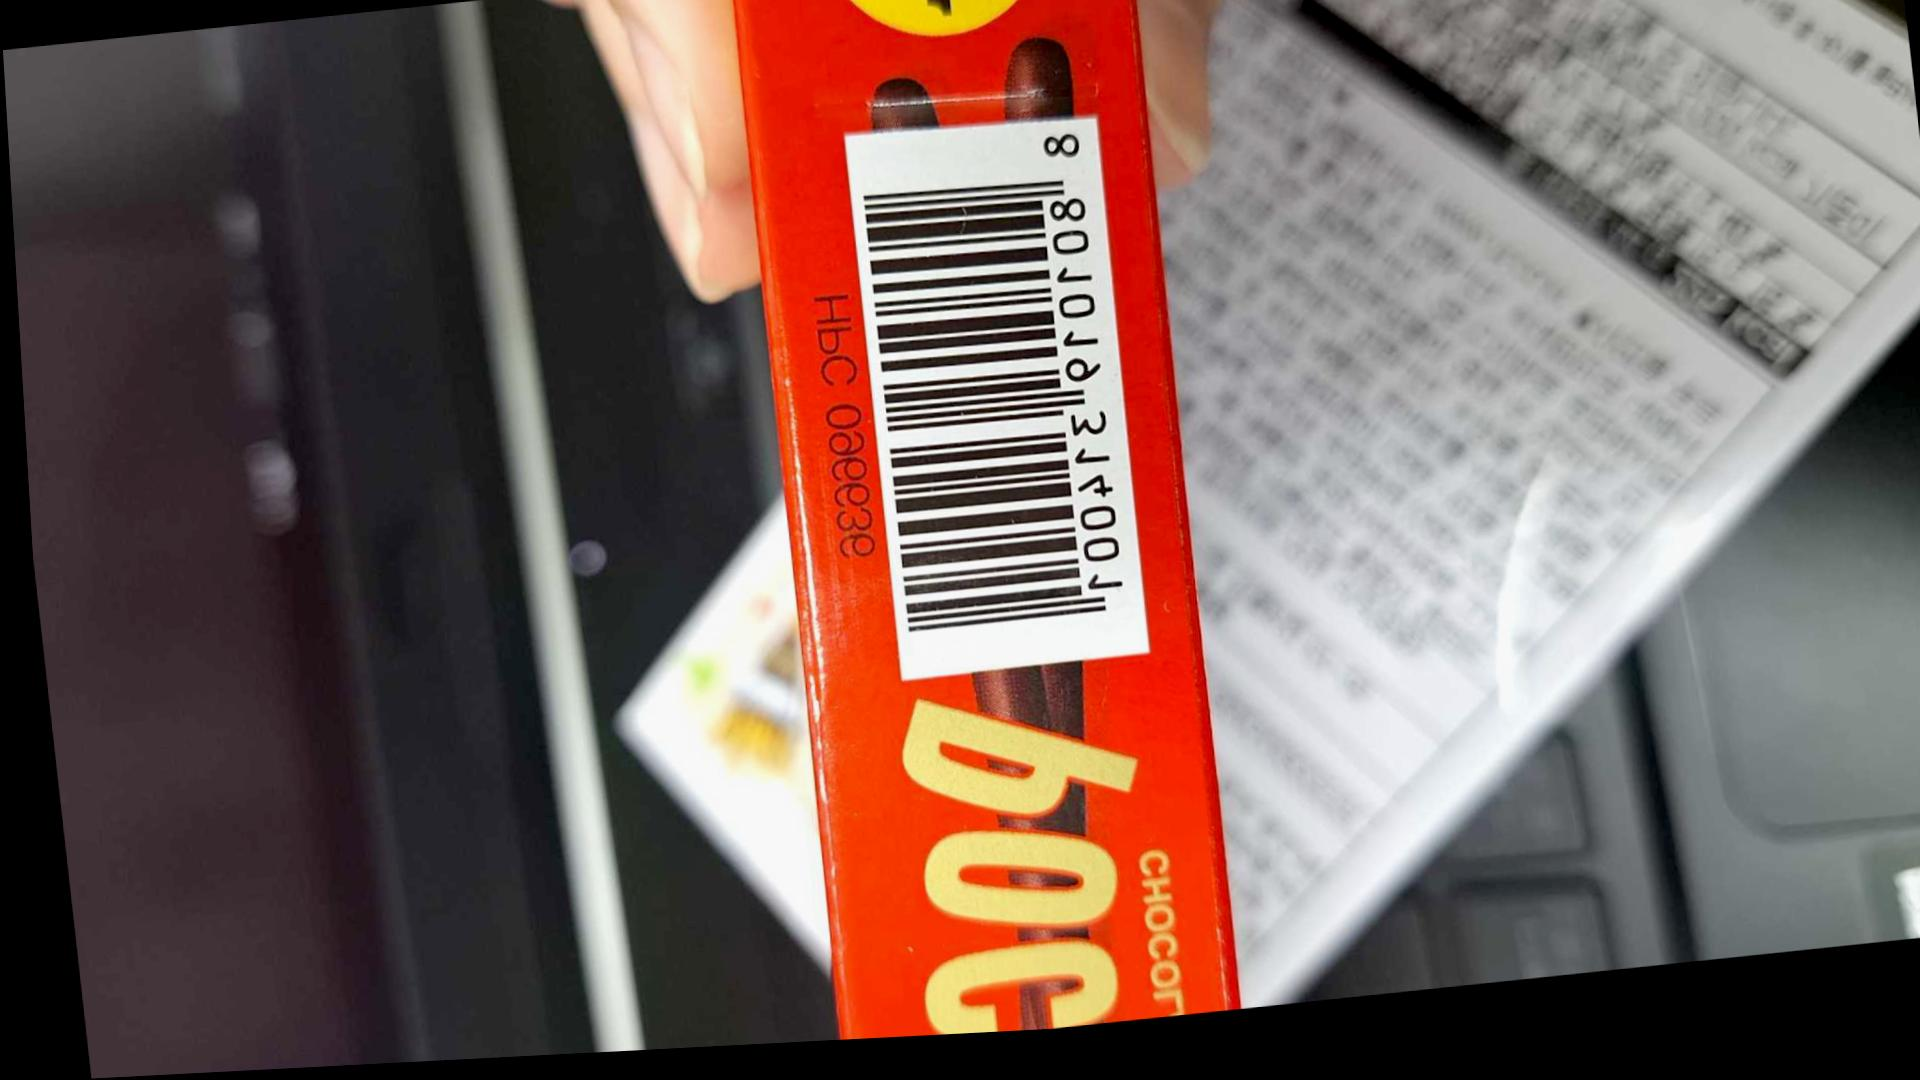redpocky-1800-2025-7-23: (847, 140, 1139, 666)
